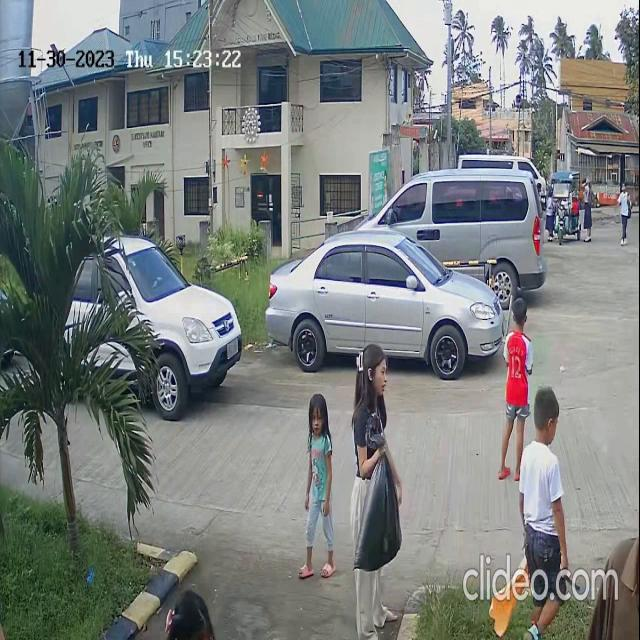garbage: (348, 418, 411, 542)
person: (518, 381, 570, 518), (298, 388, 336, 480), (504, 296, 530, 400), (354, 342, 391, 398), (616, 173, 632, 240)
